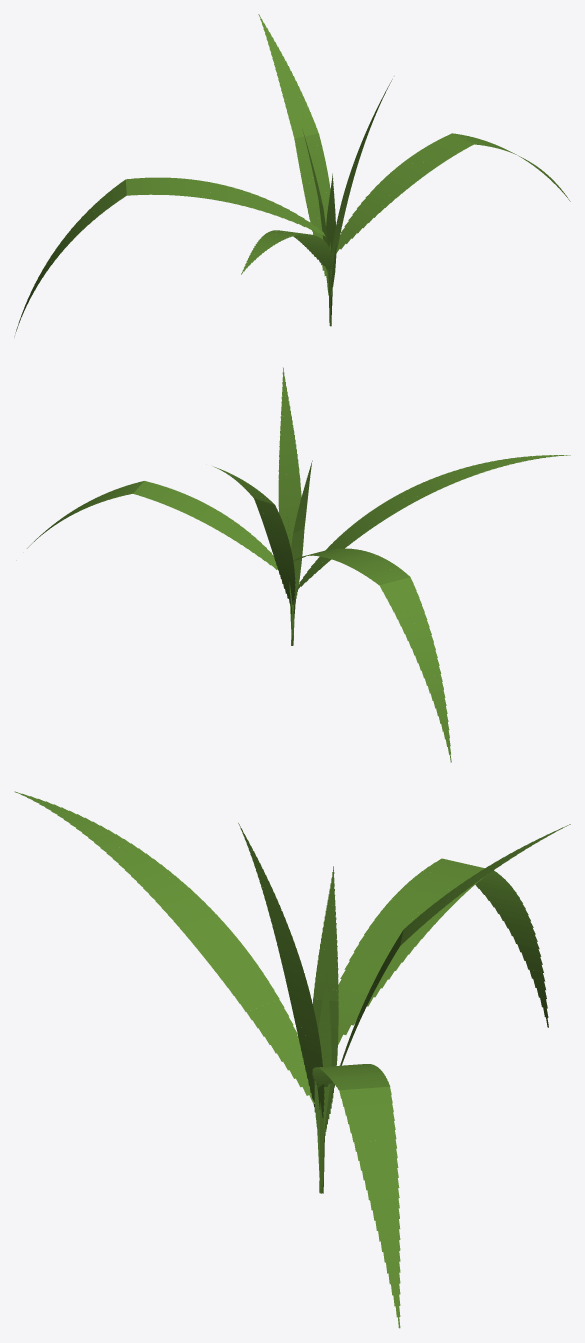
File: maize_005_day_060.dae
3 renders of one model, top to bottom at view 1: azimuth 30°, elevation 25°; view 2: azimuth 150°, elevation 25°; view 3: azimuth 270°, elevation 25°, orthographic. The views are drawn at different scales.
Visible parts, largest first — view 1: node; view 2: node; view 3: node.
Part boxes in pixels (left/top/right/bottom): node: left=14, top=14, right=570, bottom=336; node: left=27, top=367, right=570, bottom=762; node: left=14, top=791, right=570, bottom=1328.
Bounding box in the file's own units: 0.6459 × 0.3297 × 0.4053.
1 material, 1 textured.
